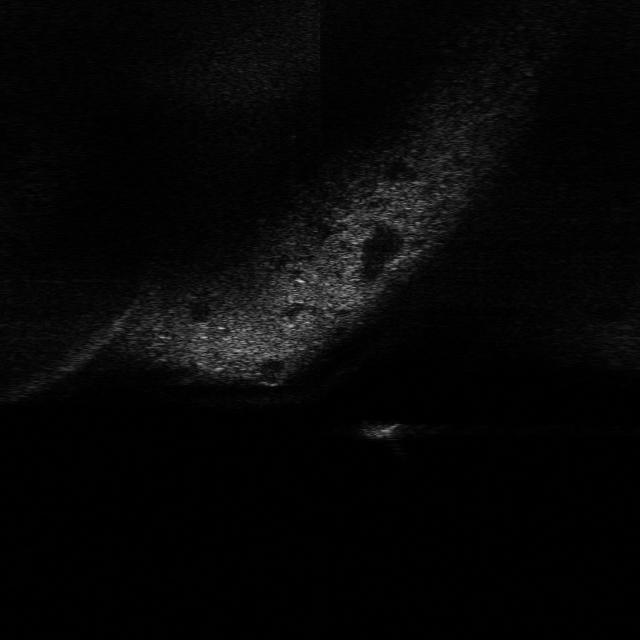cube: (351, 412, 408, 444)
